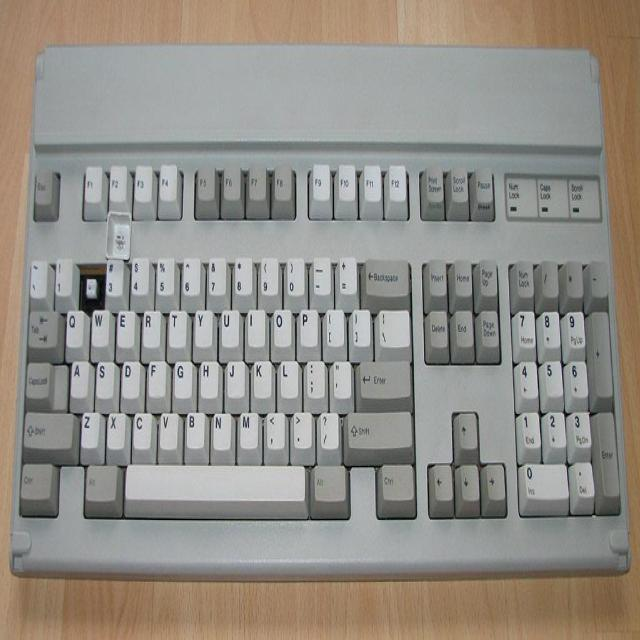keyboard: (5, 41, 632, 580)
